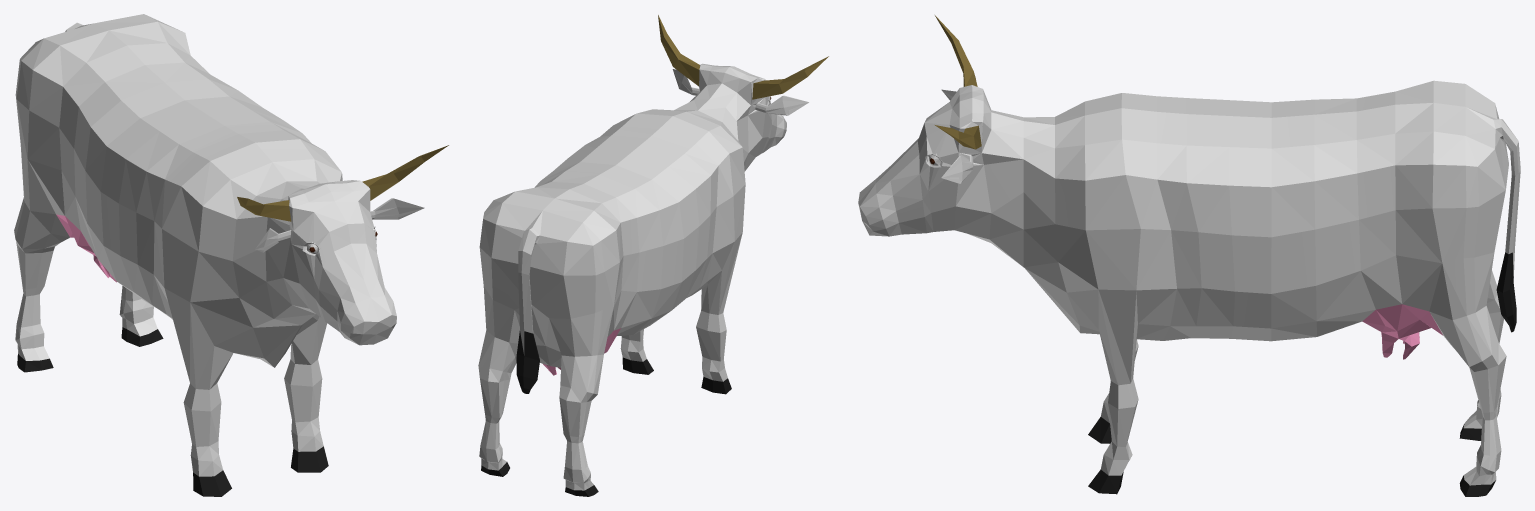
The model's file is cow.glb.
3 renders of one model, left to right at view 1: azimuth 30°, elevation 25°; view 2: azimuth 150°, elevation 25°; view 3: azimuth 270°, elevation 25°, orthographic. The views are drawn at different scales.
Visible parts, largest first — view 1: cow; view 2: cow; view 3: cow.
Part boxes in pixels (x1,y1,x2,y2): cow: [14, 14, 448, 496]; cow: [478, 15, 828, 496]; cow: [858, 15, 1520, 496].
Size of the model in its own units: 0.91 by 1.5 by 2.3.
